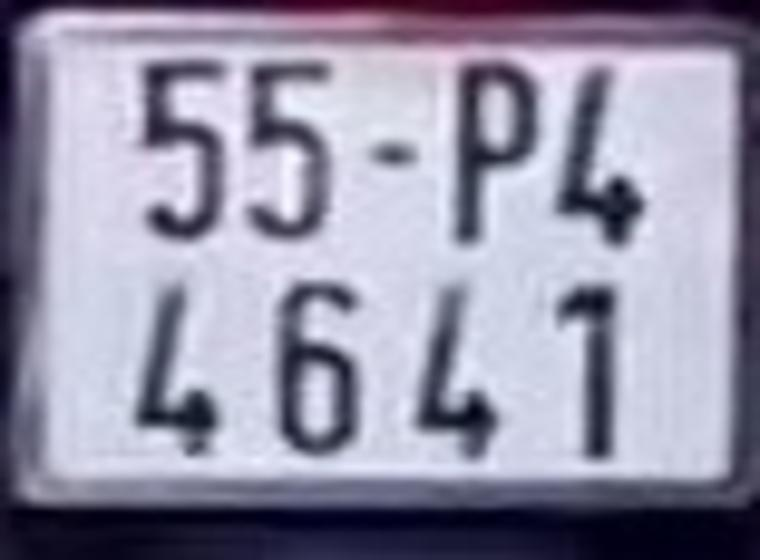-: (370, 140, 426, 168)
1: (558, 270, 627, 461)
4: (557, 66, 653, 249), (411, 278, 503, 464), (134, 284, 226, 461)
5: (244, 58, 338, 241), (139, 56, 229, 241)
6: (271, 279, 364, 458)
P: (454, 60, 548, 244)
